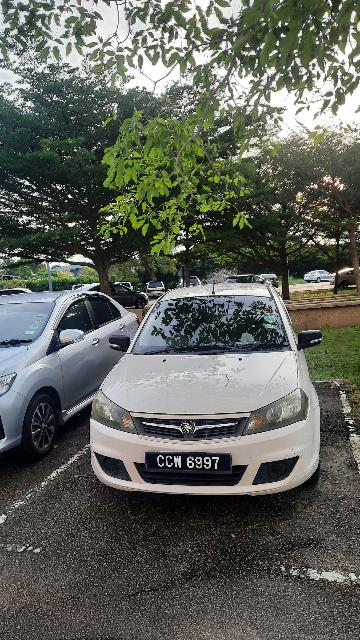License_Plate: (145, 449, 235, 480)
car: (91, 283, 331, 501), (1, 287, 147, 462)
